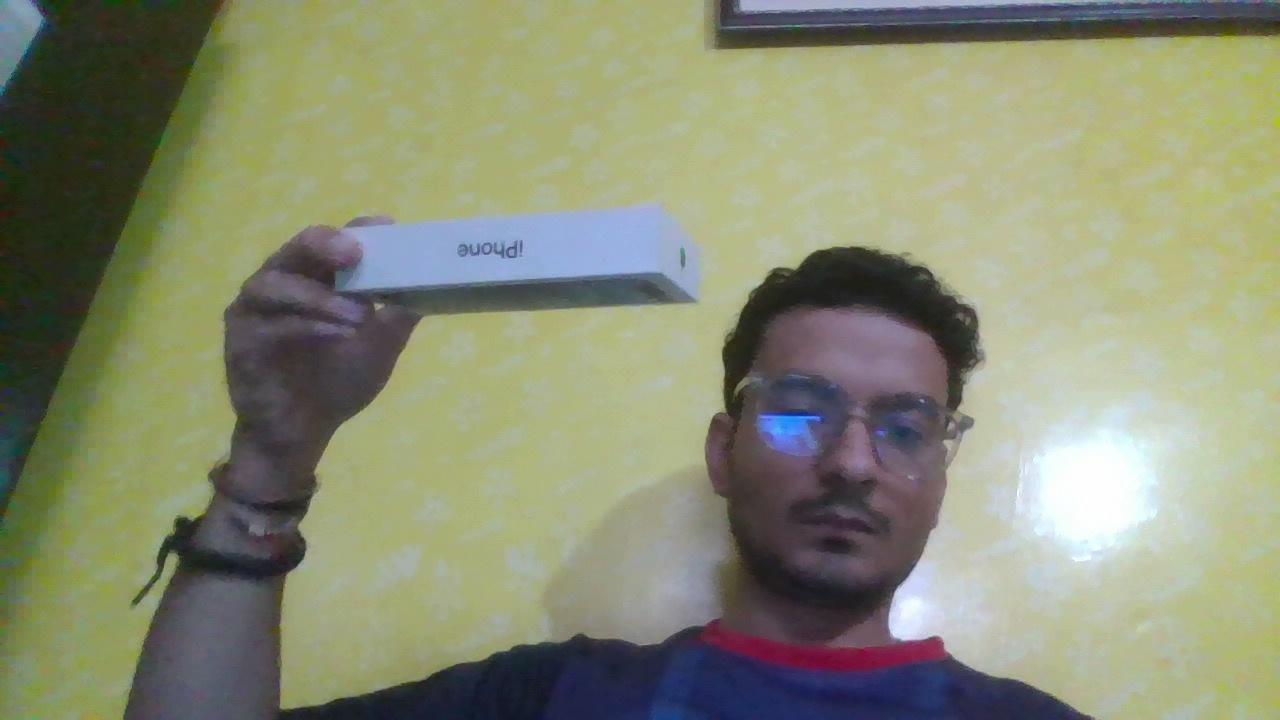Phone: (313, 193, 735, 341)
